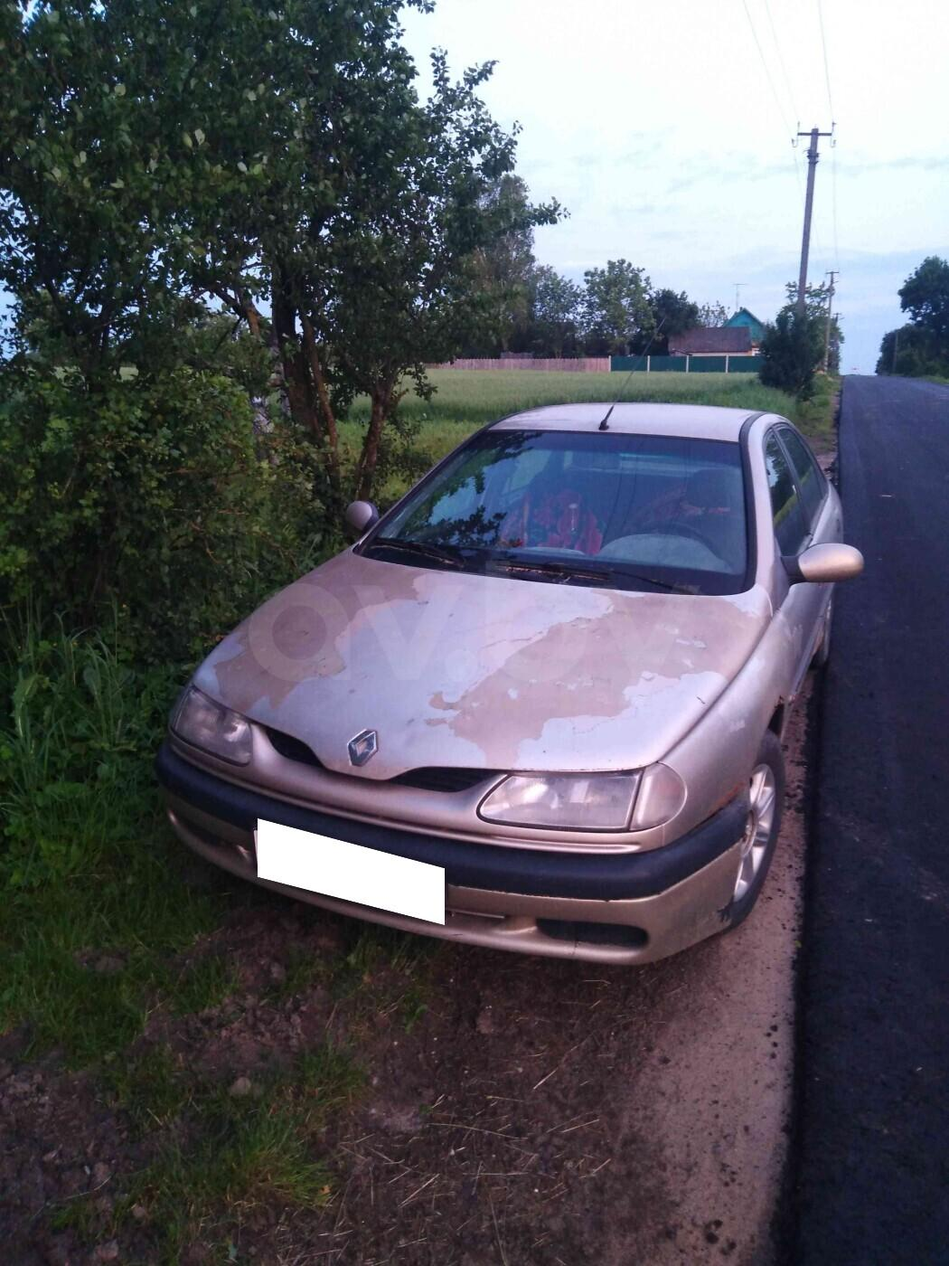Lahuna_1993-1999: (168, 398, 864, 984)
